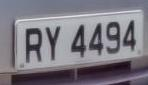4: (69, 20, 89, 62), (87, 20, 106, 58), (121, 16, 138, 53)
9: (105, 19, 122, 55)
R: (22, 24, 46, 69)
Y: (41, 23, 66, 66)
